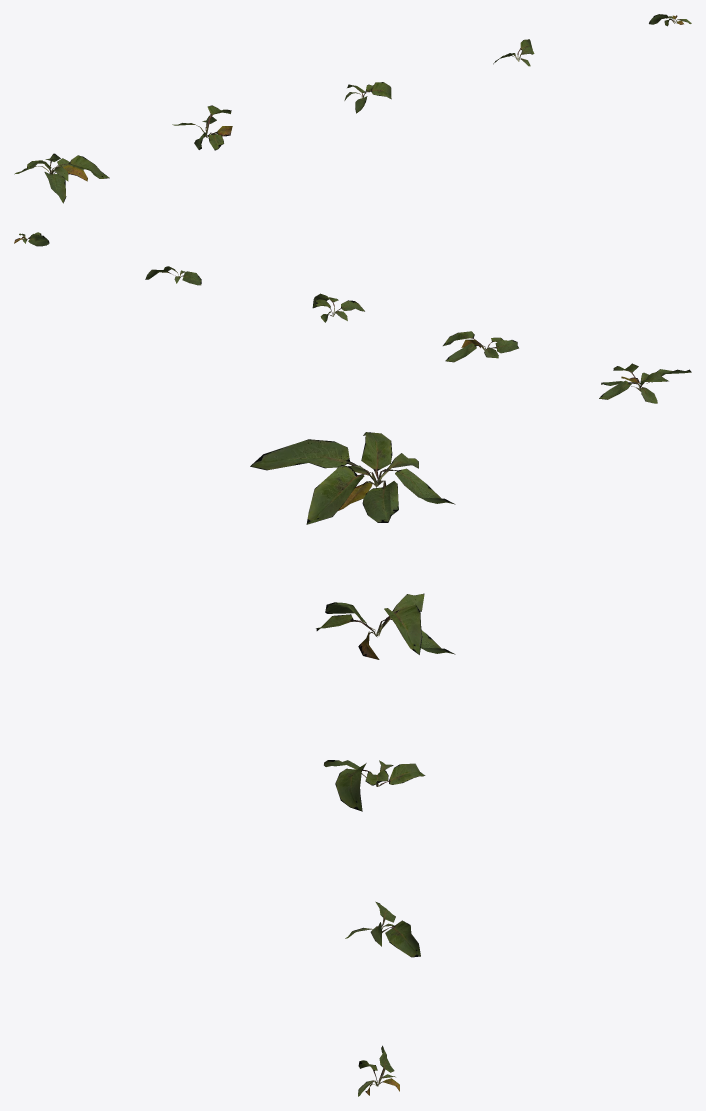
Rendered from weeds_lo.glb.
The picture shows the model from 3 angles, top to bottom: view 1: azimuth 30°, elevation 25°; view 2: azimuth 150°, elevation 25°; view 3: azimuth 270°, elevation 25°; orthographic projection. The views are drawn at different scales.
Parts seen in each view (by area): view 1: weed_plant_02_a_LOD0, weed_plant_02_b_LOD0, weed_plant_02_c_LOD0, weed_plant_02_d_LOD0; view 2: weed_plant_02_a_LOD0, weed_plant_02_b_LOD0, weed_plant_02_c_LOD0, weed_plant_02_d_LOD0, weed_plant_02_e_LOD0; view 3: weed_plant_02_a_LOD0, weed_plant_02_b_LOD0, weed_plant_02_c_LOD0, weed_plant_02_d_LOD0.
Boxes of the visible parts, x1=… form: weed_plant_02_a_LOD0: x1=14, y1=153, x2=109, y2=203; weed_plant_02_b_LOD0: x1=172, y1=105, x2=232, y2=150; weed_plant_02_c_LOD0: x1=344, y1=82, x2=391, y2=113; weed_plant_02_d_LOD0: x1=493, y1=39, x2=534, y2=66; weed_plant_02_a_LOD0: x1=599, y1=363, x2=691, y2=403; weed_plant_02_b_LOD0: x1=443, y1=331, x2=518, y2=362; weed_plant_02_c_LOD0: x1=312, y1=293, x2=364, y2=322; weed_plant_02_d_LOD0: x1=145, y1=266, x2=201, y2=285; weed_plant_02_e_LOD0: x1=14, y1=232, x2=49, y2=246; weed_plant_02_a_LOD0: x1=250, y1=432, x2=455, y2=524; weed_plant_02_b_LOD0: x1=316, y1=593, x2=455, y2=659; weed_plant_02_c_LOD0: x1=324, y1=760, x2=425, y2=811; weed_plant_02_d_LOD0: x1=345, y1=901, x2=420, y2=957.
Size of the model in its own units: 2.13 by 0.0744 by 0.2909.
Materials: 1 (1 with a texture image).
